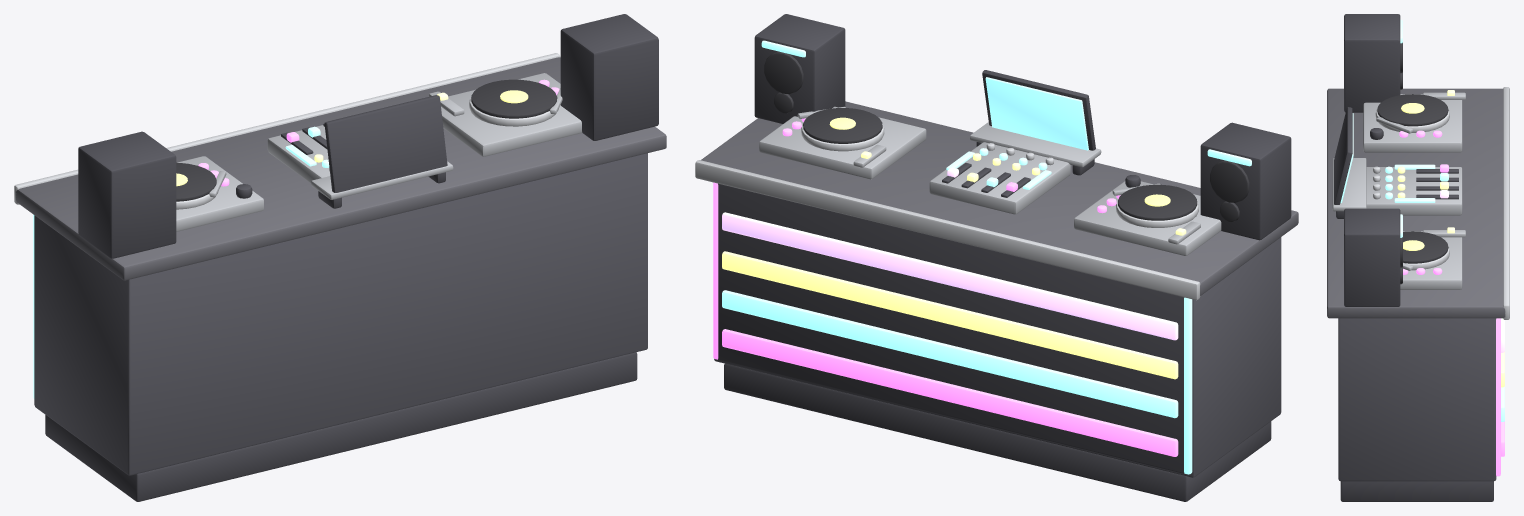
Rendered from th14_dj_pult.glb.
The picture shows the model from 3 angles, left to right: view 1: azimuth 30°, elevation 25°; view 2: azimuth 150°, elevation 25°; view 3: azimuth 270°, elevation 25°; orthographic projection. The views are drawn at different scales.
Parts seen in each view (by area): view 1: Cube.001, Cube.009, Cube, Cube.035, Cube.037, Cube.033, Cube.015, Cube.010, Cube.011, Cylinder.008, Cube.019, Cylinder.001 (+2 smaller); view 2: Cube.002, Cube.009, Cube.001, Cube, Cube.010, Cube.004, Cube.003, Cube.005, Cube.006, Cube.035, Cube.037, Cube.034 (+13 smaller); view 3: Cube.001, Cube.009, Cube.037, Cube.035, Cube, Cube.019, Cube.011, Cube.015, Cylinder.001, Cube.010, Cube.030, Cube.033 (+8 smaller).
Part boxes in pixels (x1,y1,x2,y2): Cube.001: (34, 153, 647, 475); Cube.009: (16, 57, 666, 280); Cube: (45, 352, 637, 501); Cube.035: (78, 131, 176, 258); Cube.037: (560, 14, 658, 140); Cube.033: (324, 95, 447, 192); Cube.015: (441, 73, 582, 156); Cube.010: (14, 53, 560, 204); Cube.011: (176, 156, 263, 231); Cylinder.008: (471, 79, 557, 118); Cube.019: (267, 125, 330, 183); Cylinder.001: (176, 162, 216, 201); Cube.002: (718, 183, 1184, 473); Cube.009: (701, 101, 1298, 295); Cube.001: (714, 237, 1281, 477); Cube: (724, 363, 1271, 501); Cube.010: (695, 160, 1200, 300); Cube.004: (722, 290, 1178, 418); Cube.003: (722, 329, 1178, 456); Cube.005: (722, 251, 1178, 379); Cube.006: (722, 212, 1178, 340); Cube.035: (1200, 122, 1291, 240); Cube.037: (754, 14, 845, 123); Cube.034: (985, 77, 1088, 150); Cube.001: (1338, 318, 1496, 481); Cube.009: (1327, 88, 1505, 318); Cube.037: (1344, 208, 1400, 306); Cube.035: (1344, 14, 1400, 112); Cube: (1340, 481, 1493, 501); Cube.019: (1366, 167, 1462, 215); Cube.011: (1363, 94, 1462, 152); Cube.015: (1400, 231, 1462, 289); Cylinder.001: (1377, 94, 1448, 126); Cube.010: (1503, 87, 1509, 319); Cube.030: (1332, 158, 1366, 211); Cube.033: (1334, 107, 1352, 204).
Size of the model in its own units: 2.32 by 1.36 by 0.81.
